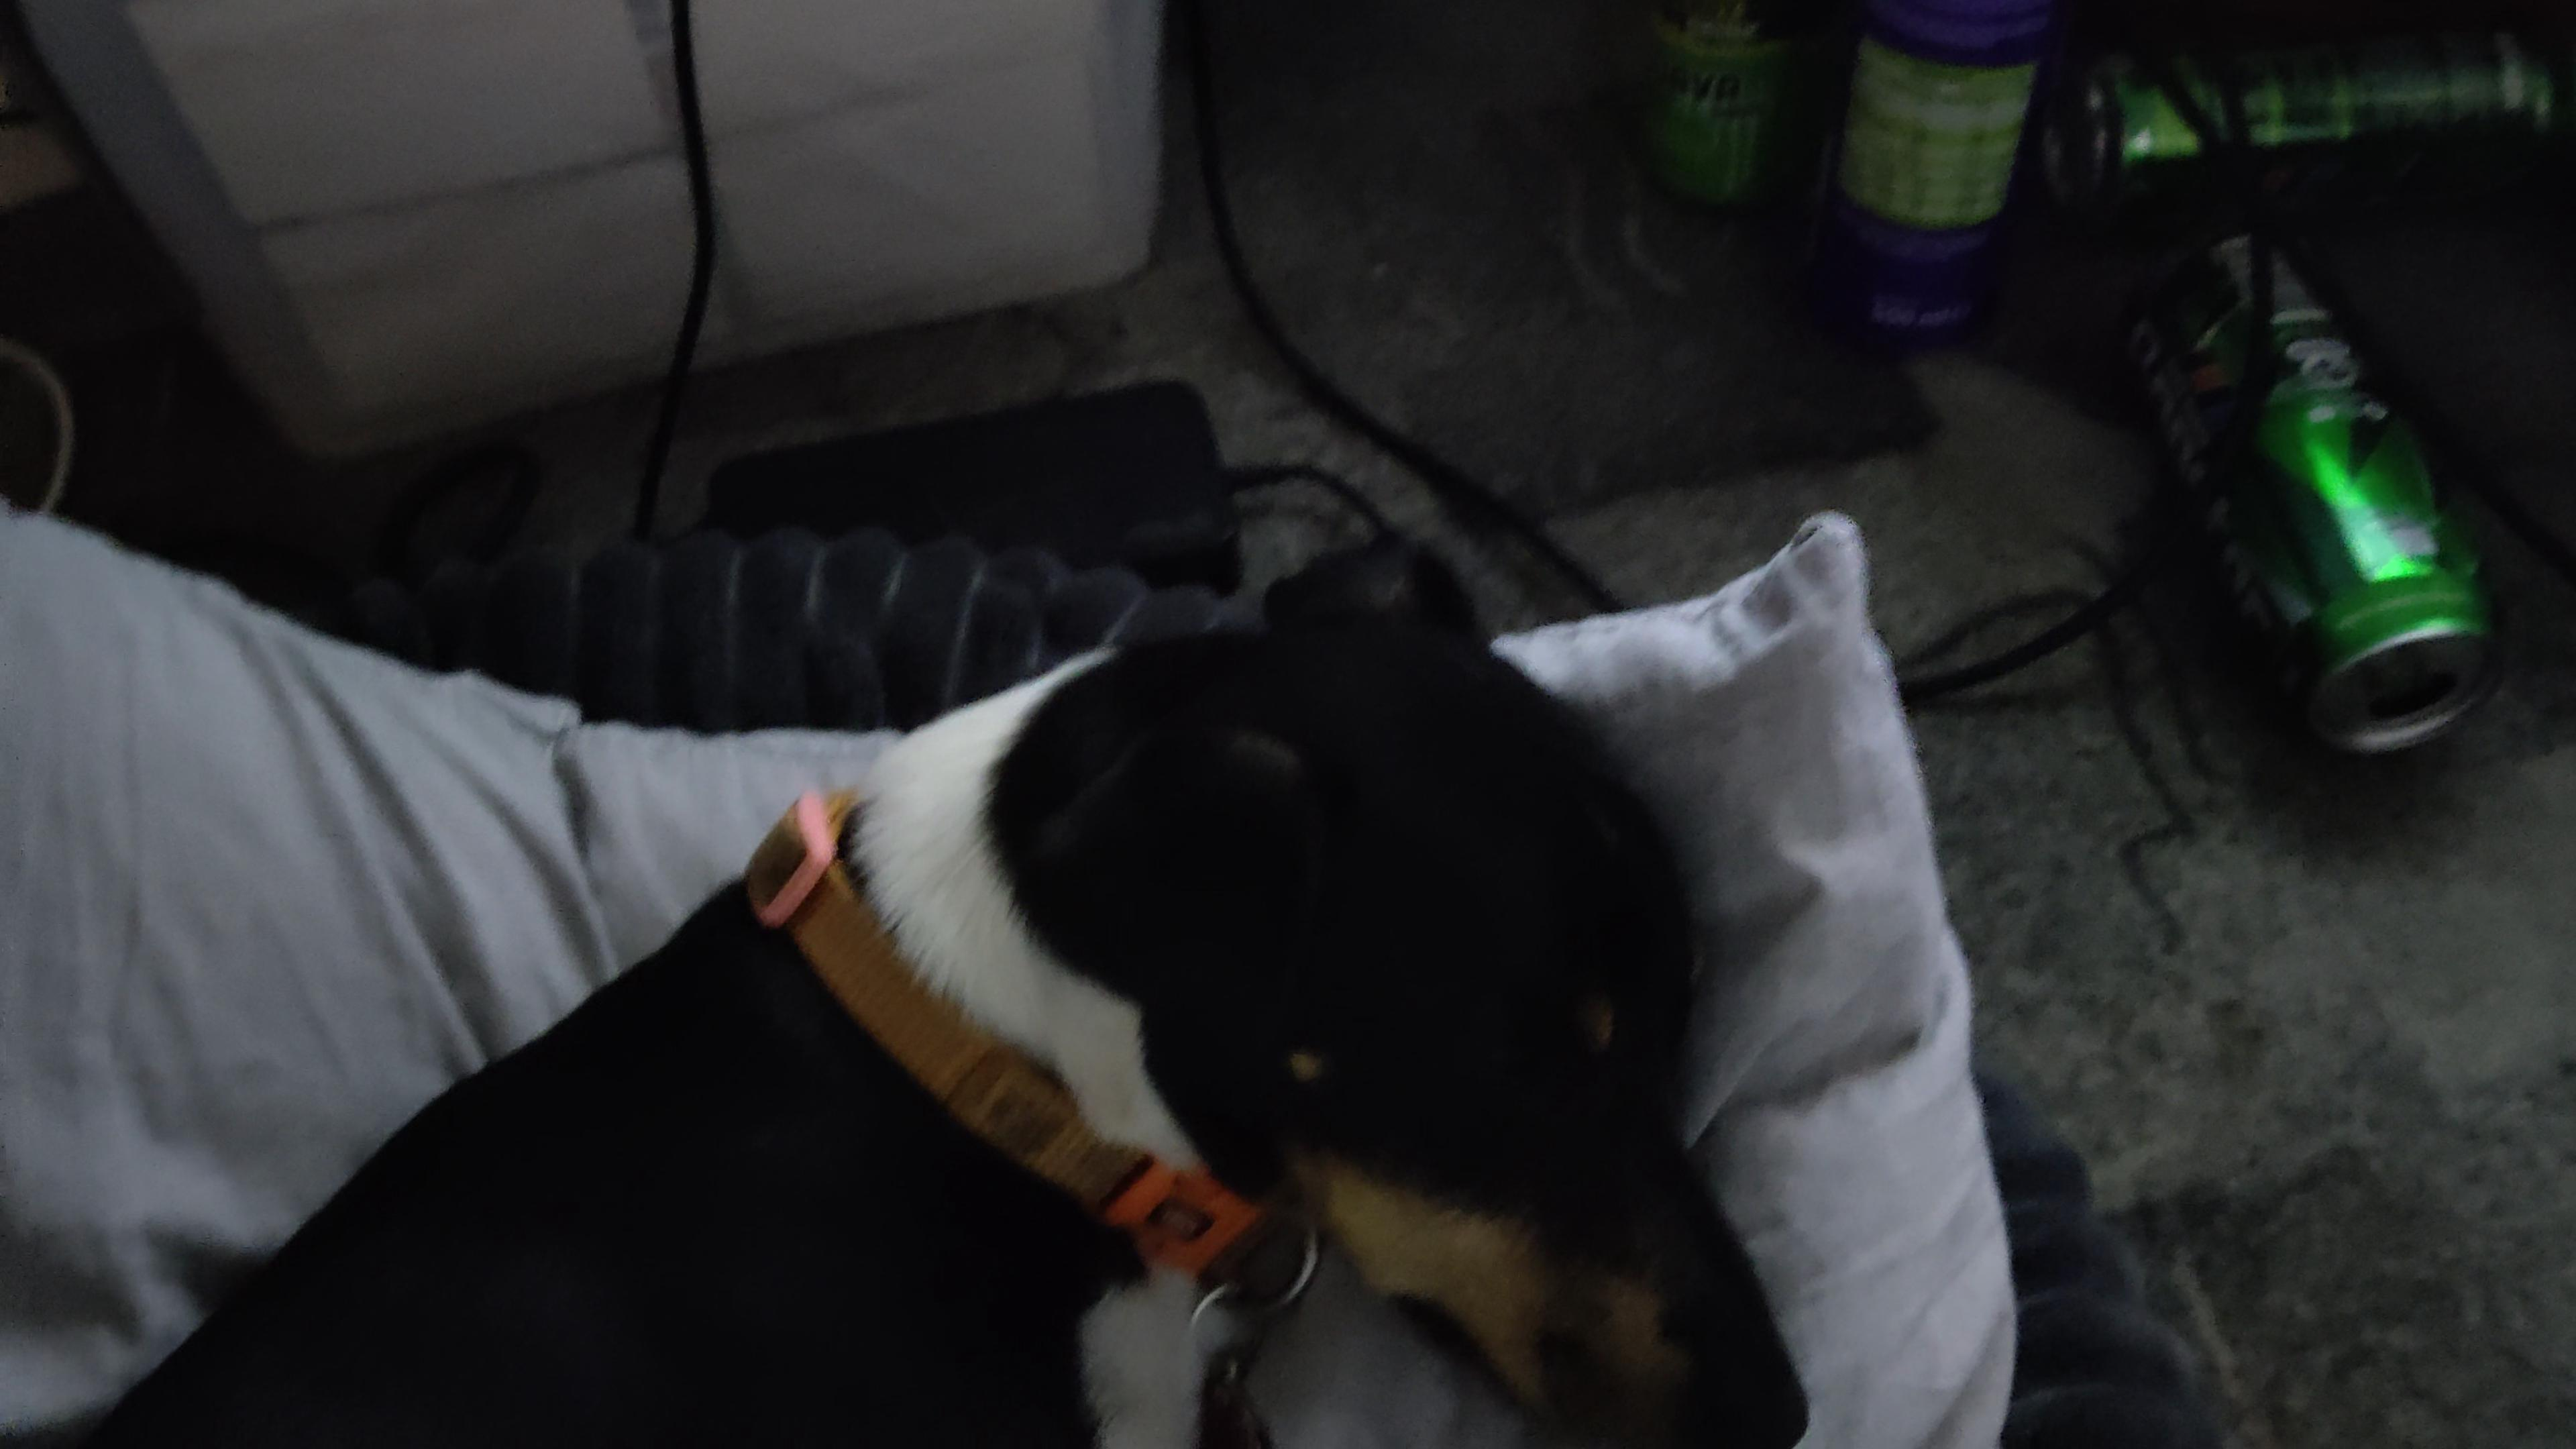Dog: (71, 522, 1833, 1449)
